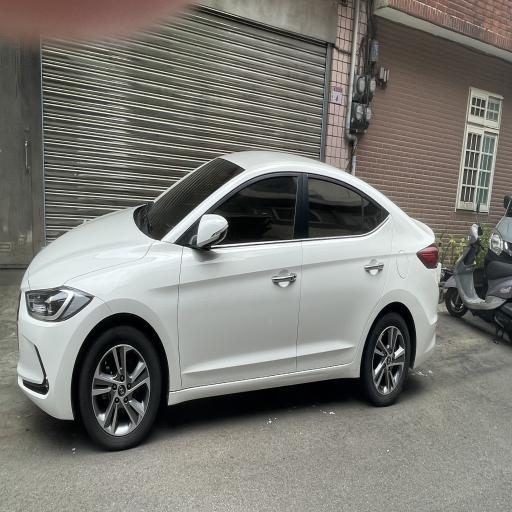car: (16, 131, 443, 456)
